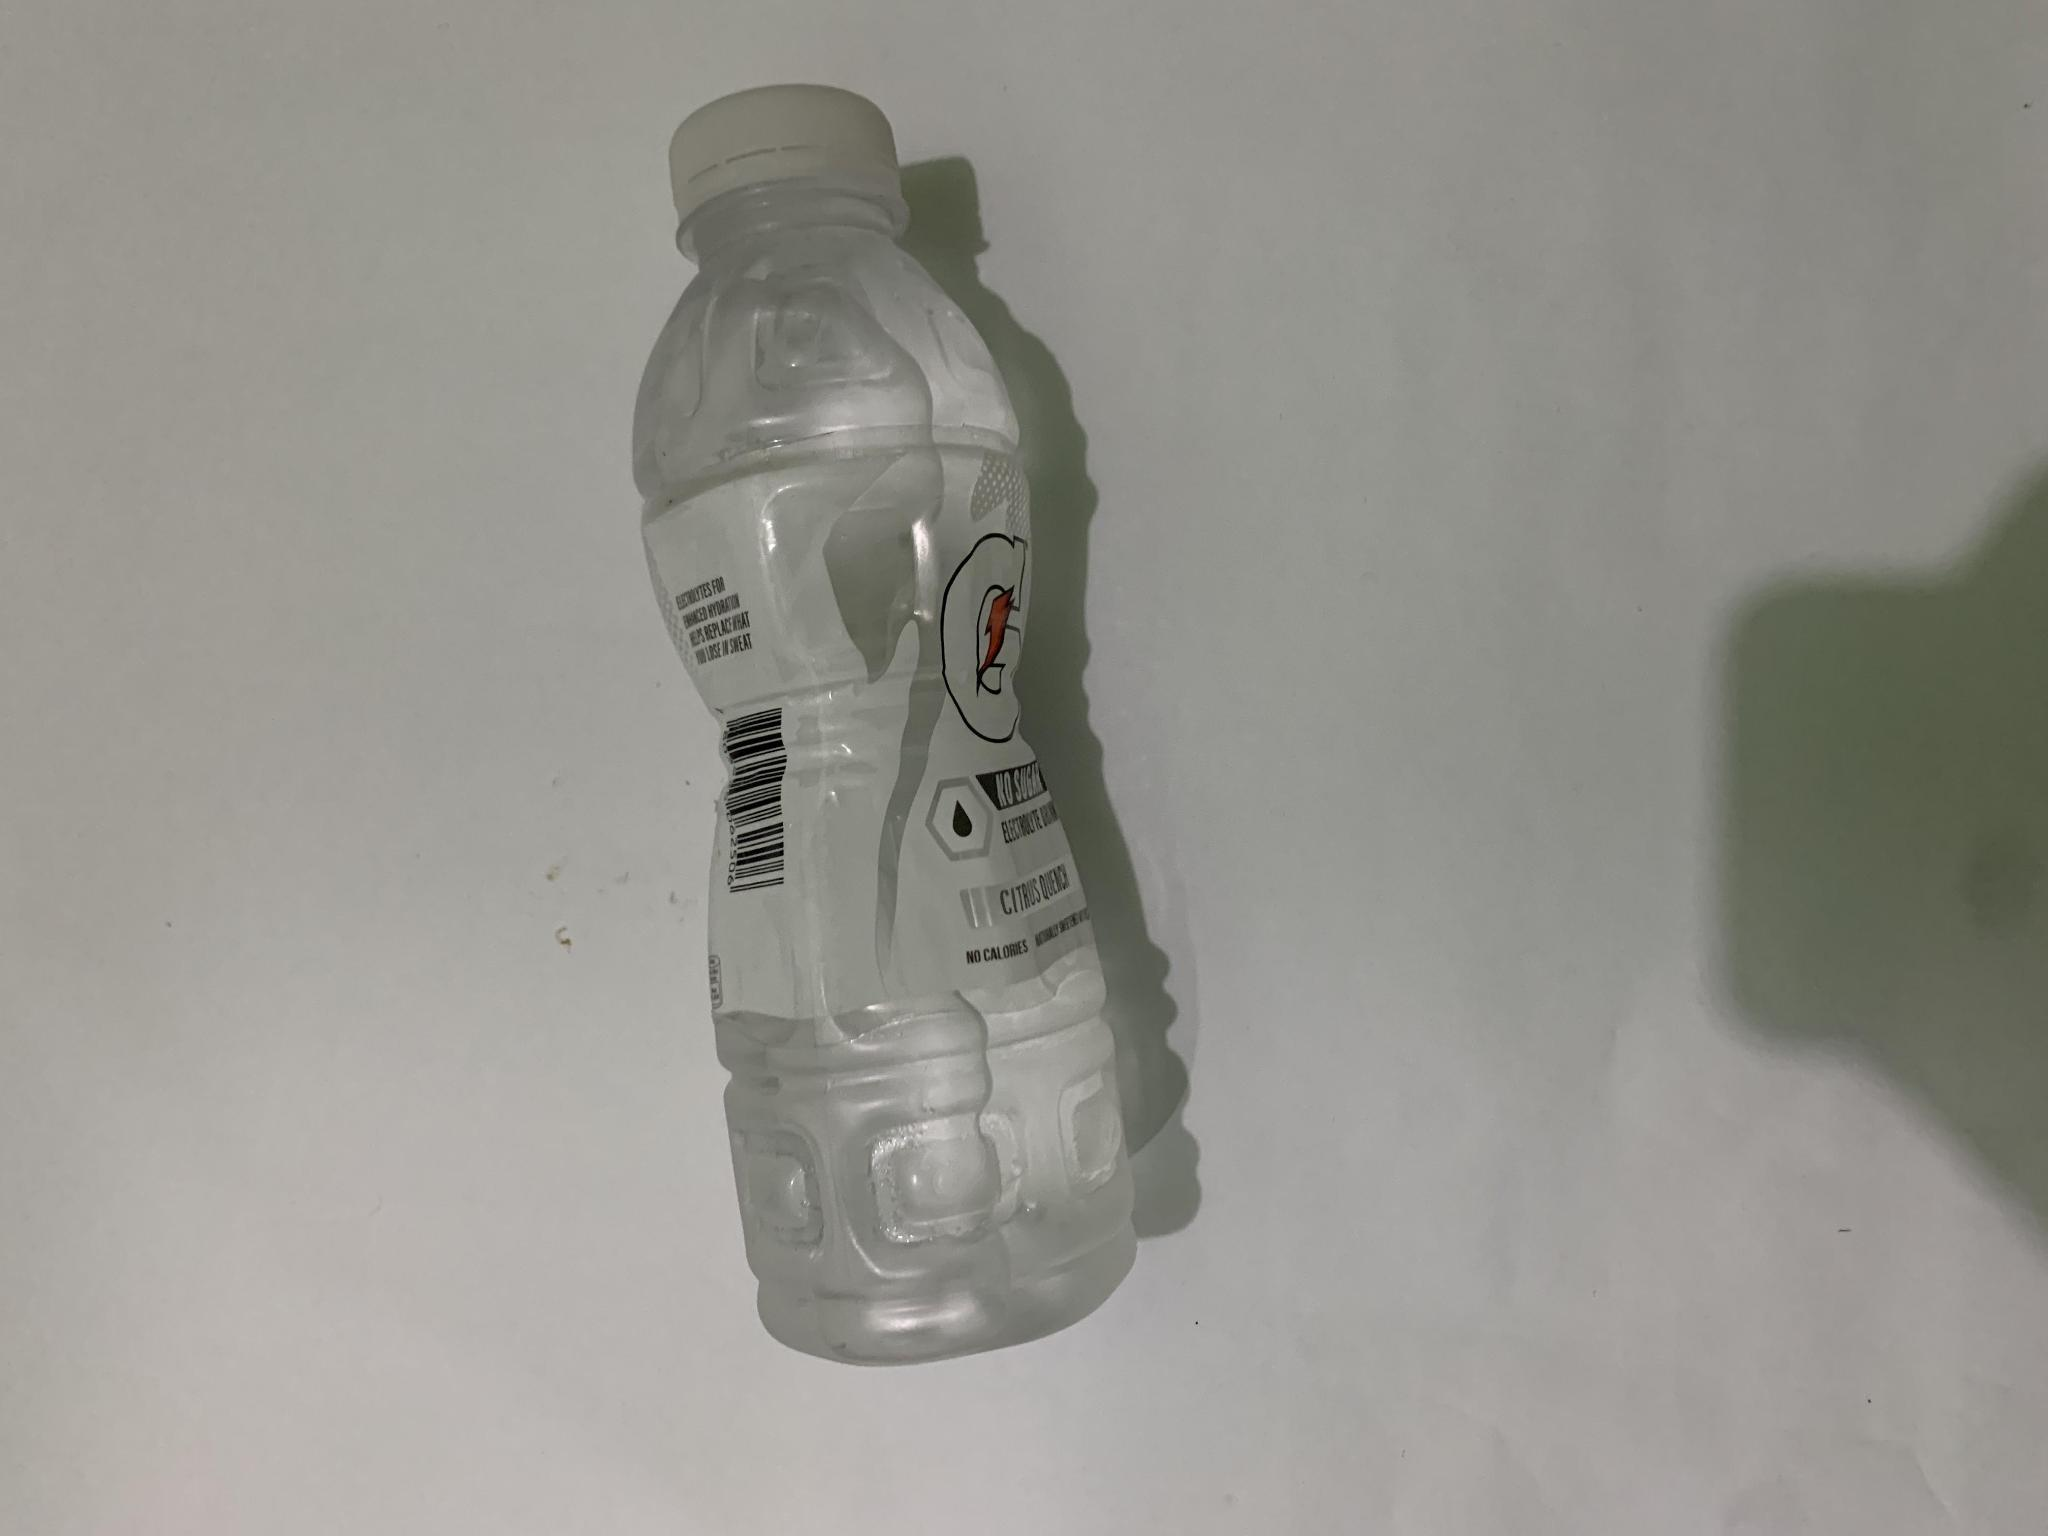bottle: (585, 47, 1185, 1363)
